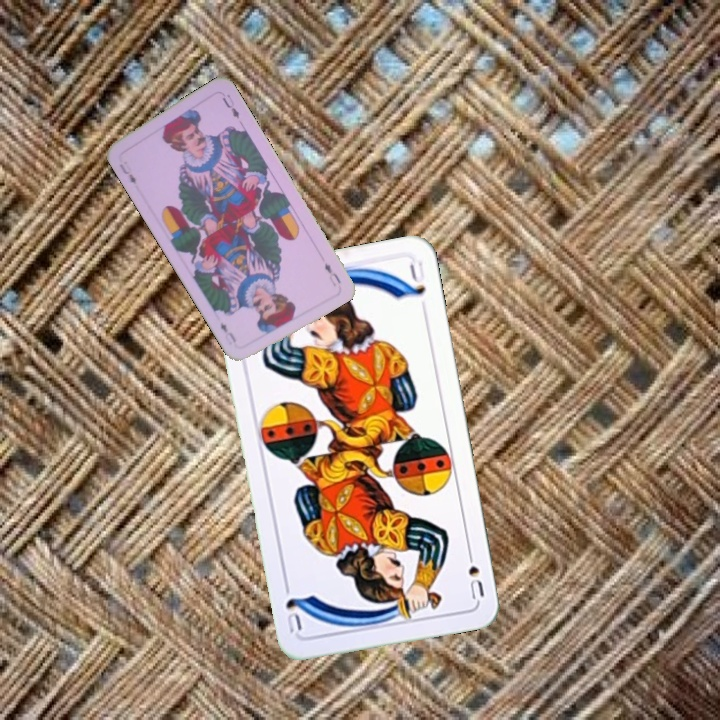EU: (320, 258, 343, 289), (115, 159, 139, 187)
SU: (463, 544, 487, 602)
